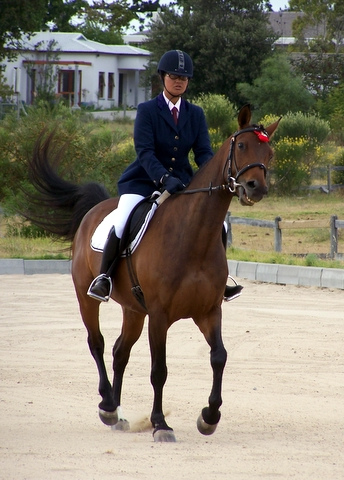person: (87, 50, 244, 302)
